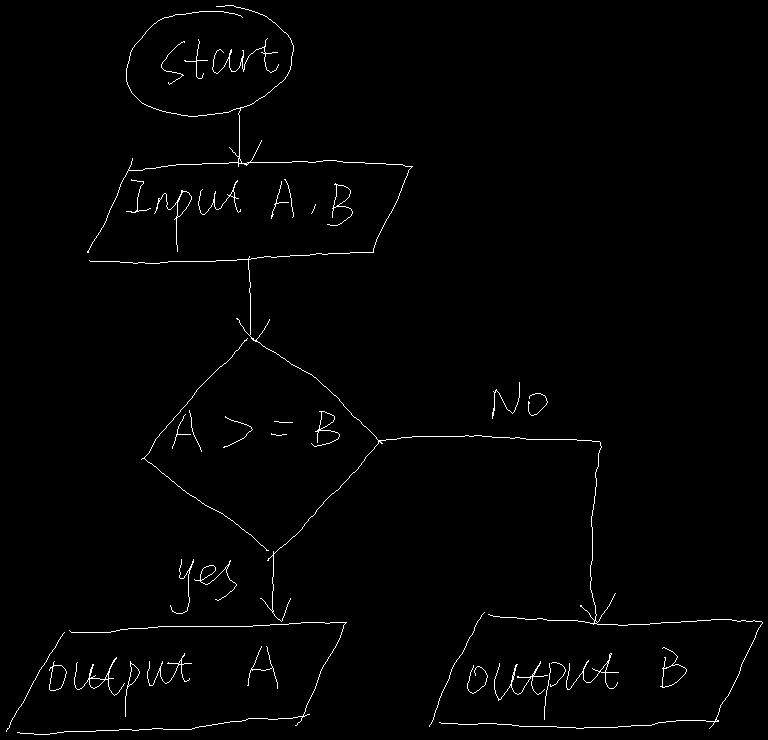arrow: (380, 435, 615, 624), (236, 256, 269, 341), (260, 551, 290, 621), (229, 108, 261, 166)
data: (429, 612, 762, 728), (6, 622, 346, 734), (87, 158, 412, 263)
decision: (141, 338, 382, 560)
terminator: (126, 5, 293, 116)
text: (126, 179, 352, 251), (49, 646, 277, 716), (467, 647, 686, 719), (172, 410, 339, 451), (161, 38, 278, 84), (170, 559, 236, 613), (492, 382, 547, 418)
